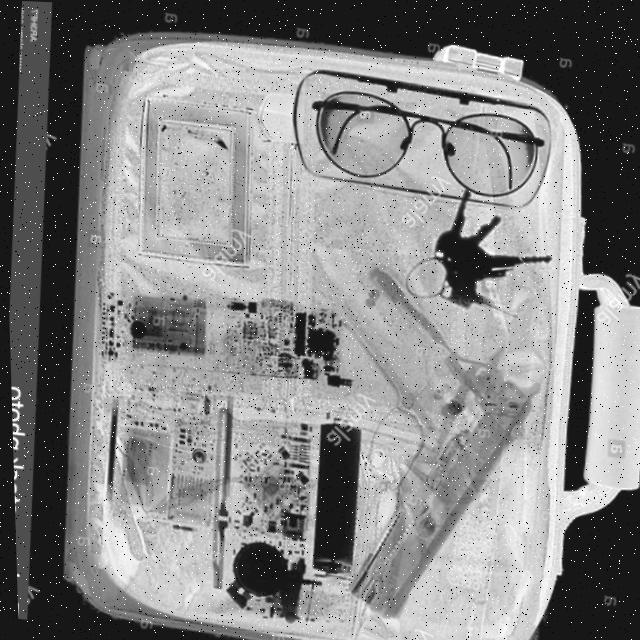pistol: (315, 256, 554, 632)
